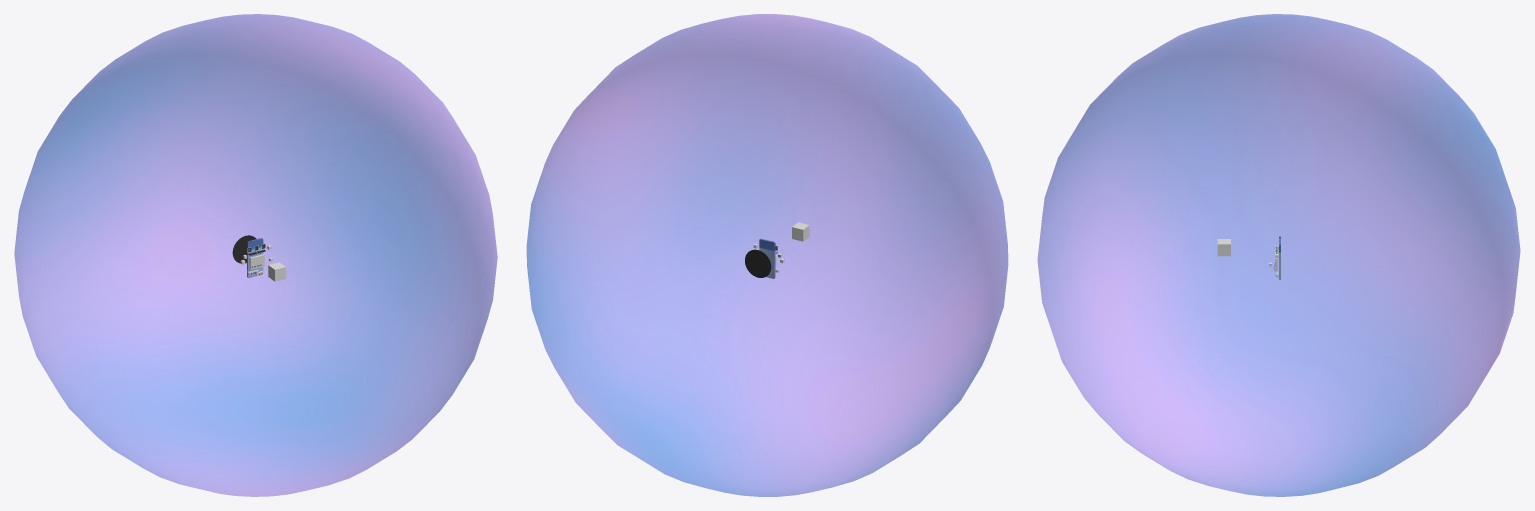
The picture shows the model from 3 angles, left to right: view 1: azimuth 30°, elevation 25°; view 2: azimuth 150°, elevation 25°; view 3: azimuth 270°, elevation 25°; orthographic projection.
Visible parts, largest first — view 1: BG_Sphere; view 2: BG_Sphere, BG_Circle; view 3: BG_Sphere.
Boxes of the visible parts, x1,y1,x2,y2 form: BG_Sphere: (14, 14, 497, 496); BG_Sphere: (526, 14, 1008, 496); BG_Circle: (745, 249, 771, 277); BG_Sphere: (1037, 14, 1520, 496).
Bounding box in the file's own units: 74.02 × 74.1 × 74.02.
24 materials, 8 textured.
